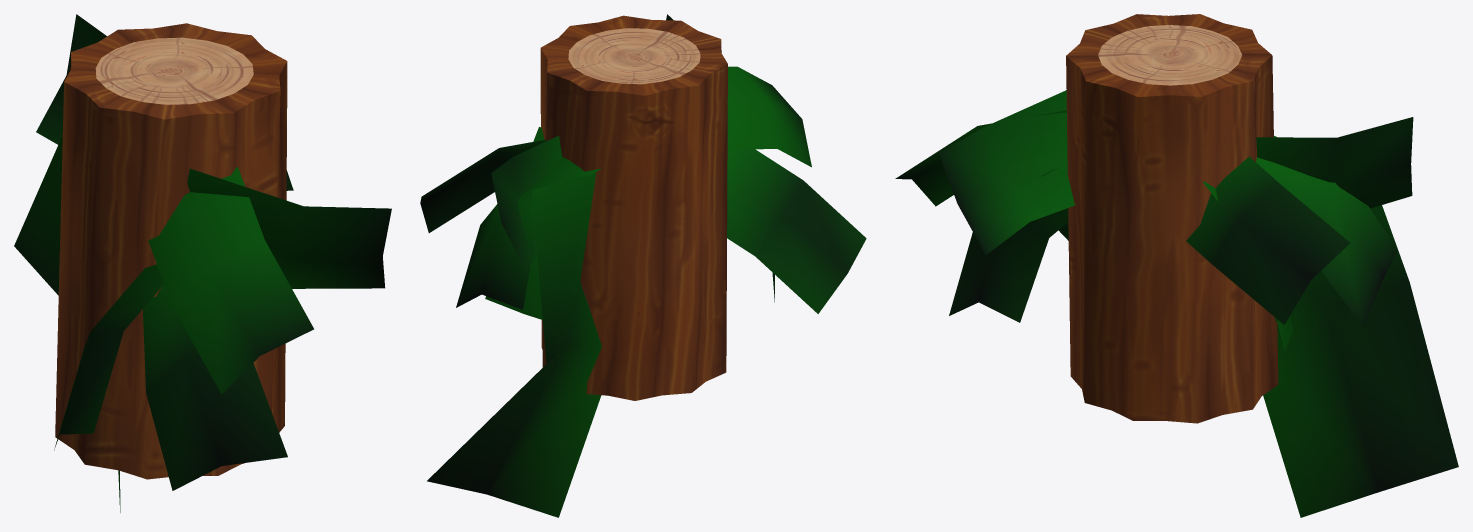
File: obj_harvests_trees_pine02_p02.fbx
3 renders of one model, left to right at view 1: azimuth 30°, elevation 25°; view 2: azimuth 150°, elevation 25°; view 3: azimuth 270°, elevation 25°, orthographic. The views are drawn at different scales.
Visible parts, largest first — view 1: chunk02; view 2: chunk02; view 3: chunk02.
Boxes of the visible parts, x1,y1,x2,y2 form: chunk02: (14, 14, 391, 512); chunk02: (420, 14, 866, 517); chunk02: (895, 14, 1458, 517).
Size of the model in its own units: 8.51 by 11.15 by 12.53.
